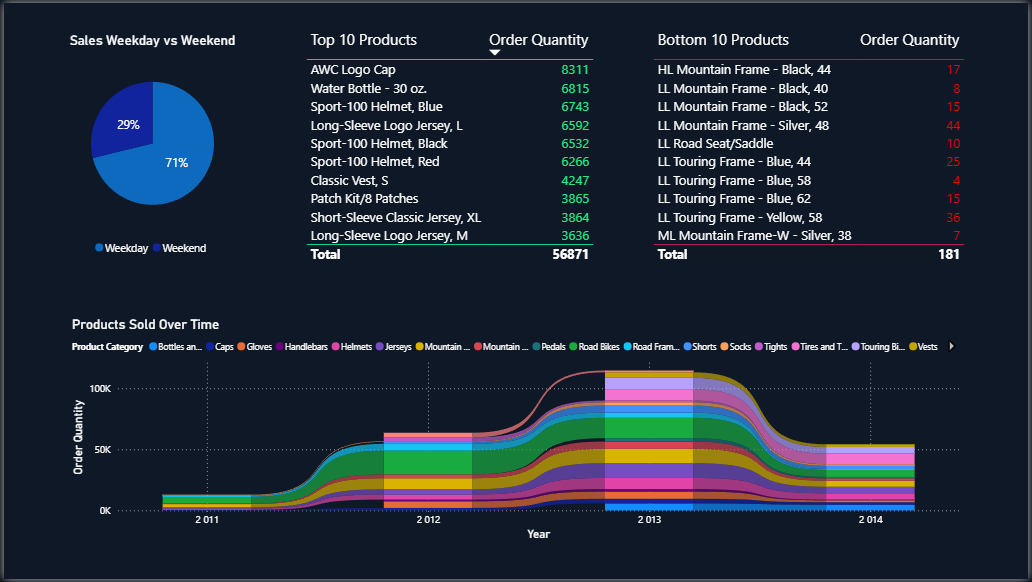

The dashboard page shown, as its layout file describes it:
{"tool":"powerbi","page":{"name":"2. Products","canvas":[1280,720],"ordinal":1},"visuals":[{"type":"pieChart","title":"Sales Weekday vs Weekend","fields":{"Y":["FactSalesOrderDetail.Total Sales"],"Category":["Date.WeekType"]},"box":[60,36.2,251.2,283.8],"z":0},{"type":"ribbonChart","title":"Products Sold Over Time","fields":{"Category":["Date.Date Hierarchy.Year","Date.Date Hierarchy.Month"],"Series":["DimProduct.Product Subcategory"],"Y":["Sum(FactSalesOrderDetail.OrderQty)"]},"box":[80,391.4,1118.6,285.7],"z":1000},{"type":"tableEx","fields":{"Values":["DimProduct.Name","Sum(FactSalesOrderDetail.OrderQty)"]},"box":[372.5,26.2,411.2,322.5],"z":2000},{"type":"tableEx","fields":{"Values":["DimProduct.Name","Sum(FactSalesOrderDetail.OrderQty)"]},"box":[806.2,26.2,423.8,322.5],"z":3000}]}

Visuals, with their boxes in screenshot pixels (x1, y1, x2, y2), scaled from the page's 1280x720 canvas onto the 1032x582 screenshot:
"Sales Weekday vs Weekend" pieChart: (left=48, top=29, right=251, bottom=259)
"Products Sold Over Time" ribbonChart: (left=64, top=316, right=966, bottom=547)
tableEx - DimProduct.Name x Sum(FactSalesOrderDetail.OrderQty): (left=300, top=21, right=632, bottom=282)
tableEx - DimProduct.Name x Sum(FactSalesOrderDetail.OrderQty): (left=650, top=21, right=992, bottom=282)
